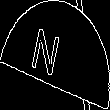N_S: (38, 25, 72, 85)
